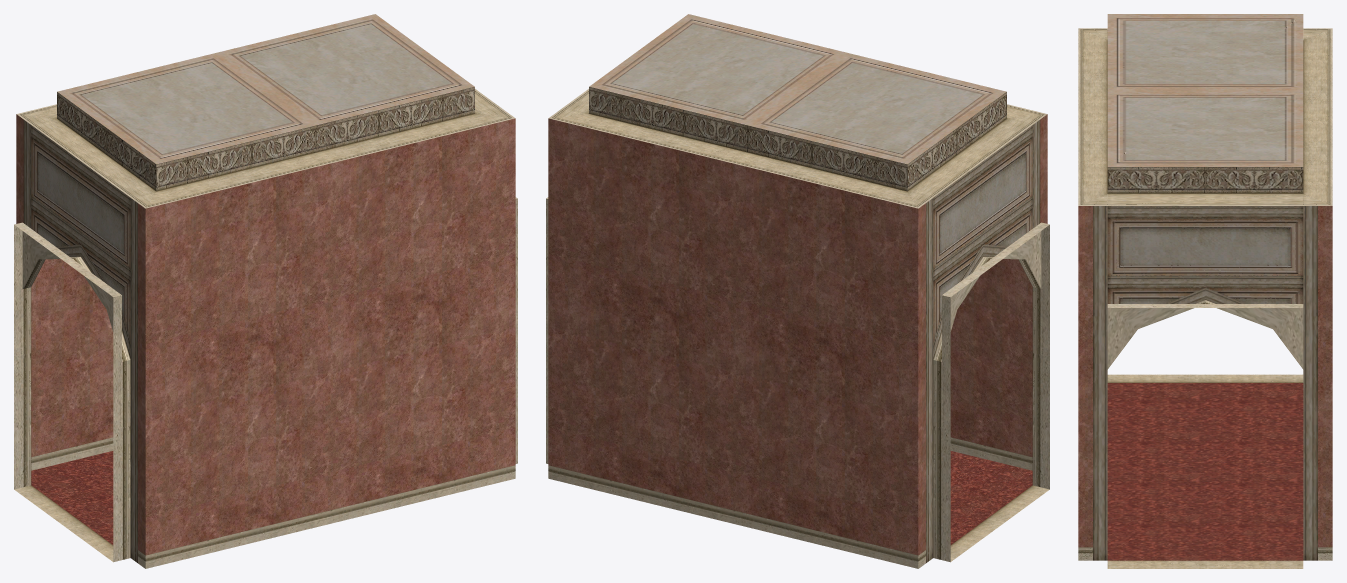
The model's file is ply_nboo_house_sm_s02_fp1_r1_foyer_mesh_r1.fbx.
The picture shows the model from 3 angles, left to right: view 1: azimuth 30°, elevation 25°; view 2: azimuth 150°, elevation 25°; view 3: azimuth 270°, elevation 25°; orthographic projection.
Visible parts, largest first — view 1: mesh_node; view 2: mesh_node; view 3: mesh_node.
Part boxes in pixels (<box>): mesh_node: <box>14,14,517,568</box>; mesh_node: <box>546,14,1049,568</box>; mesh_node: <box>1078,14,1332,568</box>.
Bounding box in the file's own units: 4.7 × 4.3 × 2.6.
